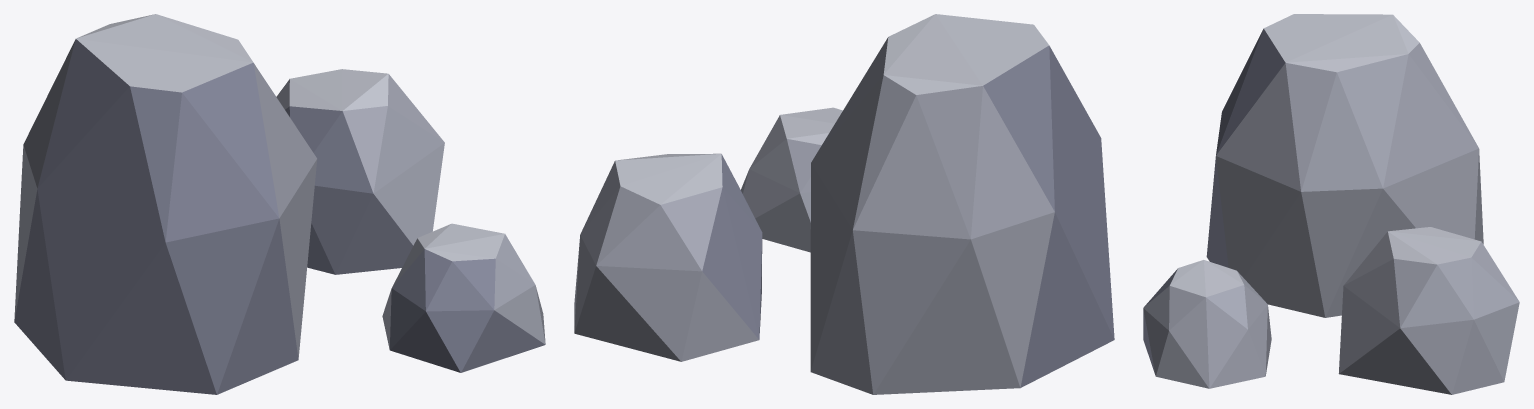
The model's file is stone_largeD.glb.
3 views of the same model, side by side, from view 1: azimuth 30°, elevation 25°; view 2: azimuth 150°, elevation 25°; view 3: azimuth 270°, elevation 25° (orthographic). The views are drawn at different scales.
Parts seen in each view (by area): view 1: stone_largeD; view 2: stone_largeD; view 3: stone_largeD.
Boxes of the visible parts, <box> form: stone_largeD: <box>14,14,545,394</box>; stone_largeD: <box>574,14,1114,394</box>; stone_largeD: <box>1143,14,1519,394</box>.
Bounding box in the file's own units: 0.935 × 0.5641 × 0.8331.
Materials: 1 (1 with a texture image).
